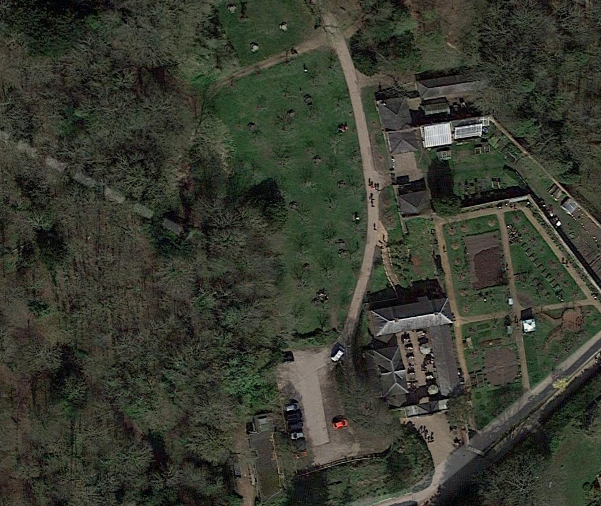tree: (235, 178, 292, 246), (223, 349, 278, 394)
